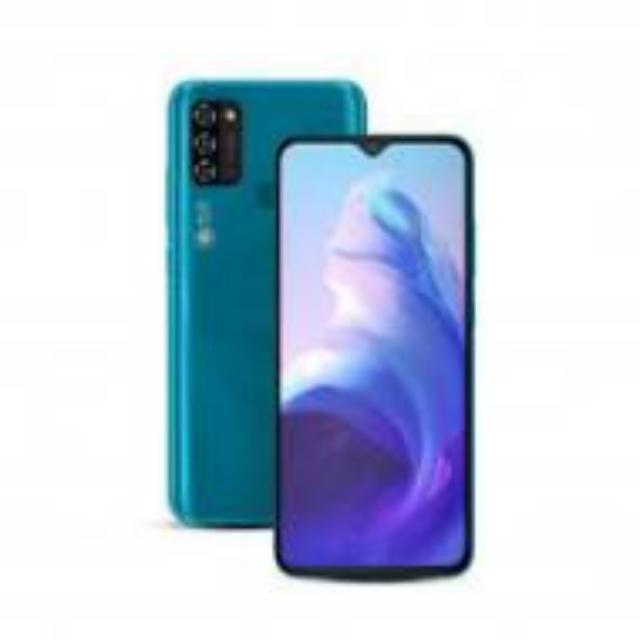Phone: (164, 78, 368, 528), (275, 135, 473, 579)
